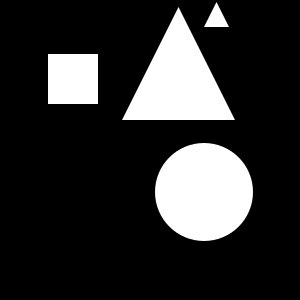circle: (48, 54, 98, 104)
rectangle: (155, 143, 253, 241)
triangle: (122, 7, 235, 120), (204, 2, 229, 27)
